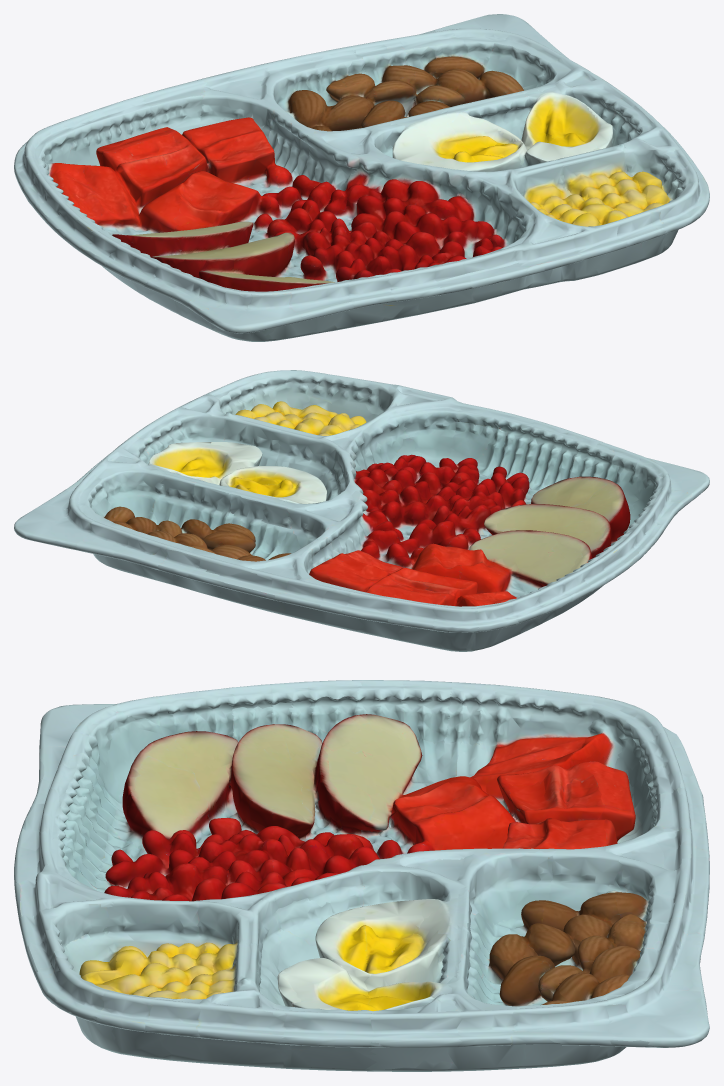
Rendered from Kid.glb.
The picture shows the model from 3 angles, top to bottom: view 1: azimuth 30°, elevation 25°; view 2: azimuth 150°, elevation 25°; view 3: azimuth 270°, elevation 25°; orthographic projection. The views are drawn at different scales.
Visible parts, largest first — view 1: mesh_node; view 2: mesh_node; view 3: mesh_node.
Boxes of the visible parts, x1,y1,x2,y2 form: mesh_node: (14,14,709,341); mesh_node: (14,370,709,651); mesh_node: (14,680,709,1071).
Bounding box in the file's own units: 1.9 × 0.2058 × 1.59.
1 material, 1 textured.
